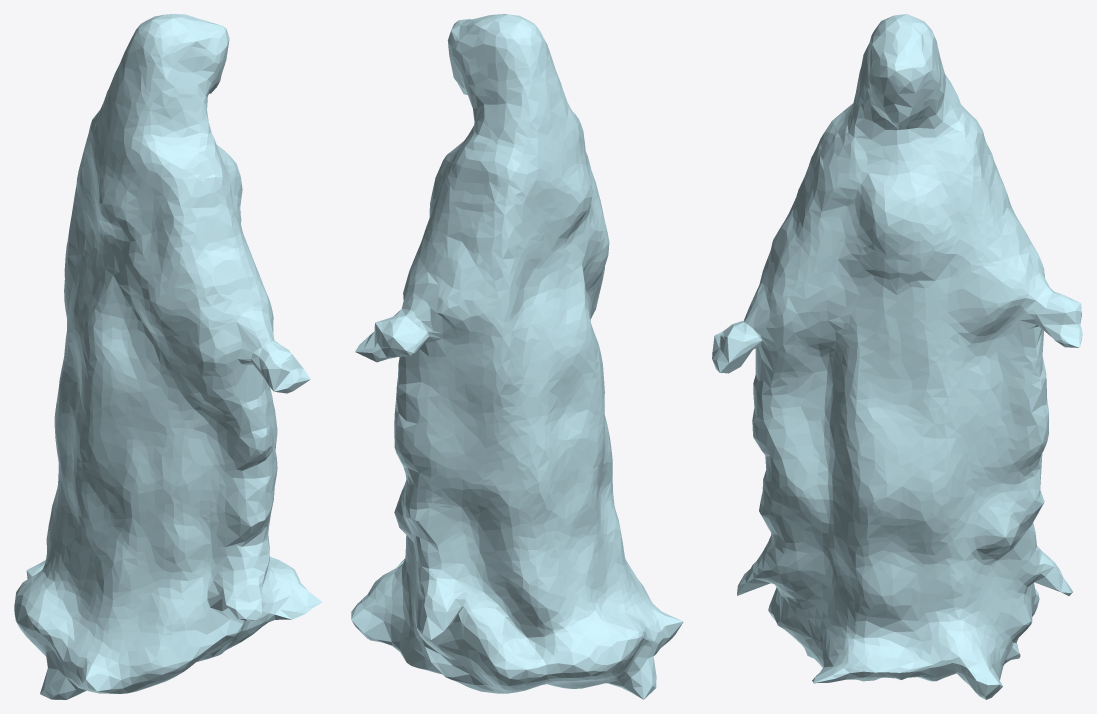
File: virgin_mary-canny.glb
The picture shows the model from 3 angles, left to right: view 1: azimuth 30°, elevation 25°; view 2: azimuth 150°, elevation 25°; view 3: azimuth 270°, elevation 25°; orthographic projection. The views are drawn at different scales.
Parts seen in each view (by area): view 1: extracted_mesh; view 2: extracted_mesh; view 3: extracted_mesh.
Part boxes in pixels (x1,y1,x2,y2): extracted_mesh: (14, 14, 322, 699); extracted_mesh: (351, 14, 683, 699); extracted_mesh: (712, 14, 1082, 699).
Bounding box in the file's own units: 0.4378 × 1.09 × 0.5452.
1 material, 1 textured.
